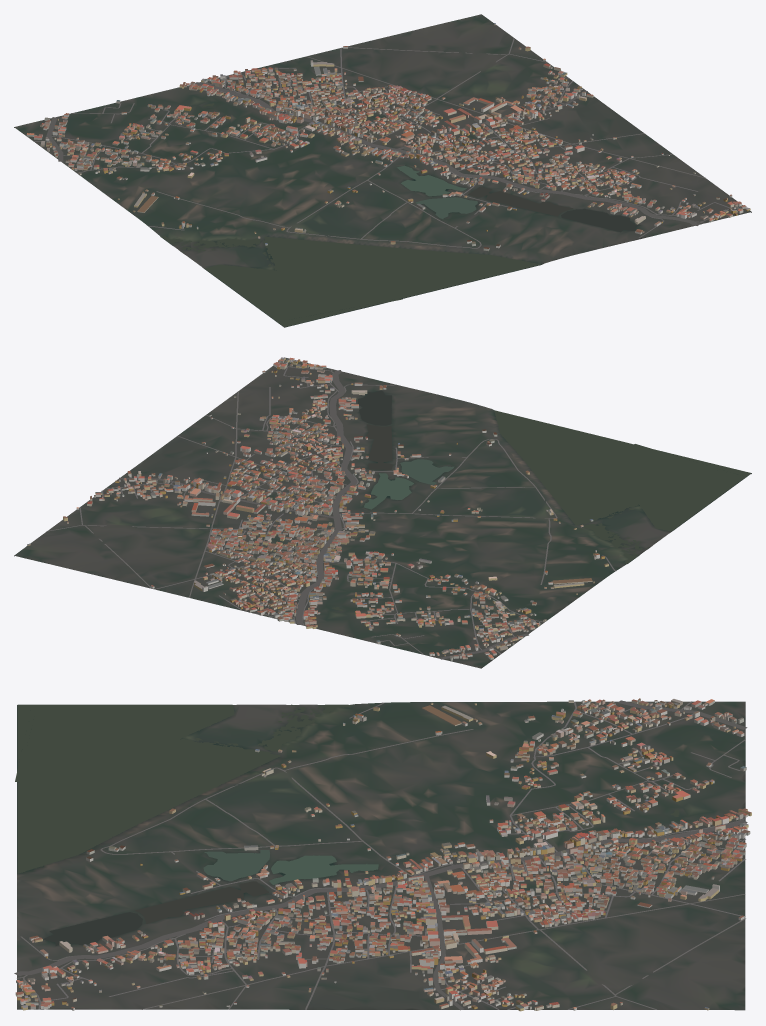
The picture shows the model from 3 angles, top to bottom: view 1: azimuth 30°, elevation 25°; view 2: azimuth 150°, elevation 25°; view 3: azimuth 270°, elevation 25°; orthographic projection. The views are drawn at different scales.
Parts seen in each view (by area): view 1: ground, buildings, water, roads; view 2: ground, buildings, water, roads; view 3: ground, buildings, water, roads.
Part boxes in pixels (x1,y1,x2,y2): ground: (14,14,751,327); buildings: (26,23,750,251); water: (162,103,640,327); roads: (33,38,740,248); ground: (14,357,751,668); buildings: (27,357,608,660); water: (331,390,750,610); roads: (47,366,615,659); ground: (17,701,745,1010); buildings: (15,698,751,1011); water: (15,704,679,945); roads: (14,700,747,1010).
Size of the model in its own units: 1411 by 23.72 by 1420.
